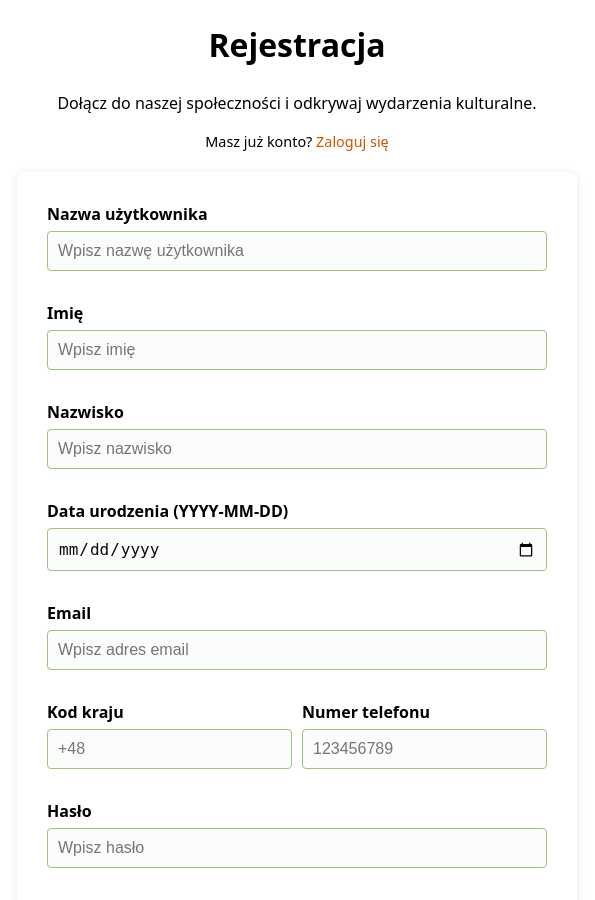
Test: Register Page › displays field-specific errors if tryRegister fails with errors object
Type "testuser" into the field labelled "Nazwa użytkownika" at (297, 252), box [47,232,547,272]
Type "Test" into the field labelled "Imię" at (297, 350), box [47,330,547,370]
Type "User" into the field labelled "Nazwisko" at (297, 450), box [47,430,547,470]
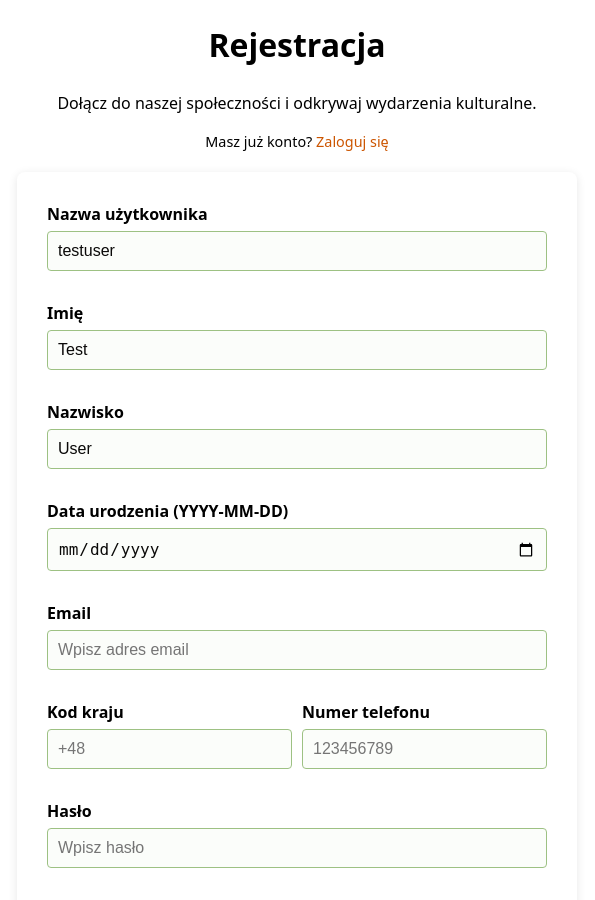
Type "2000-01-01" into the date field labelled "Data urodzenia (YYYY-MM-DD)" at (297, 550), box [47,528,547,572]
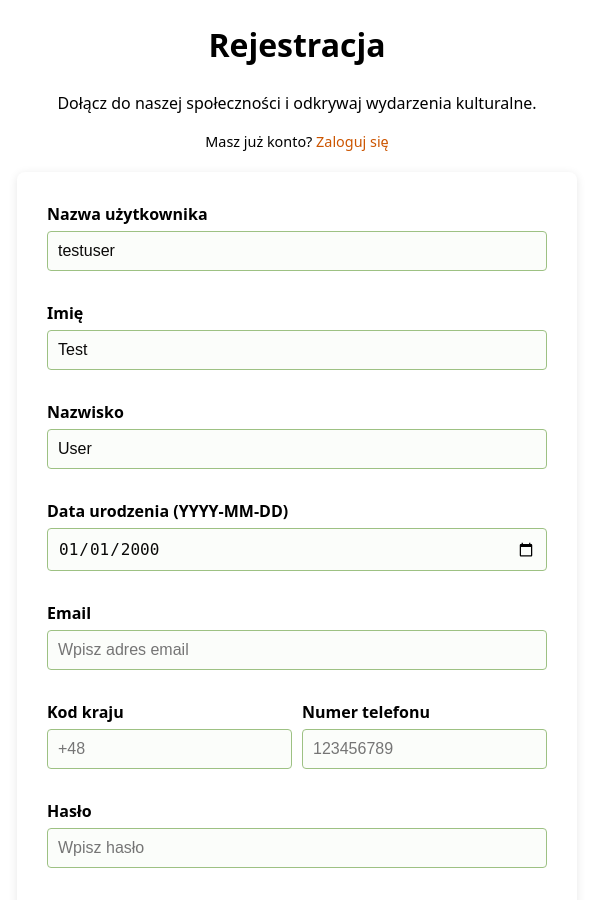
Type "test@example.com" into the field labelled "Email" at (297, 650), box [47,630,547,670]
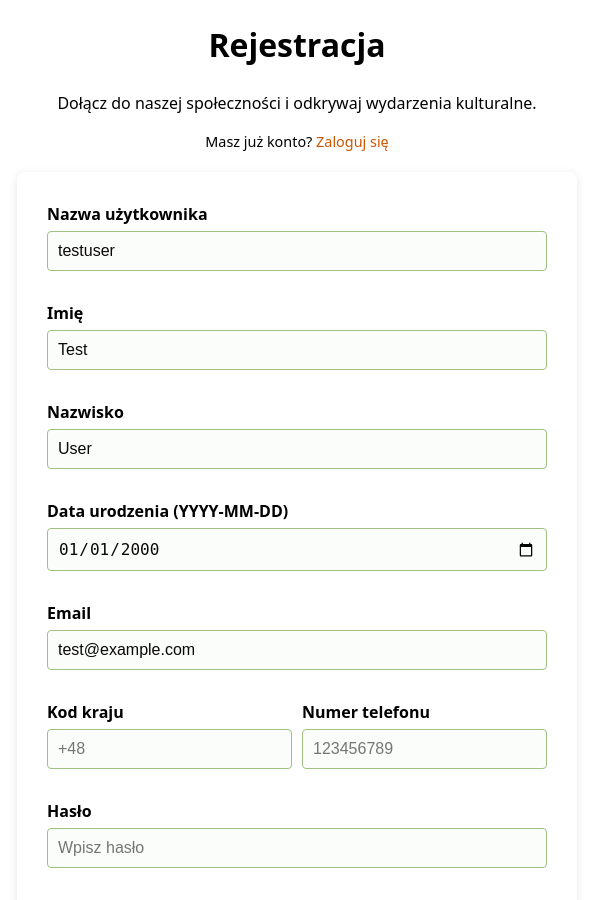
Type "Password123!" into the password field labelled "Hasło" at (297, 848), box [47,828,547,868]
(page scrolled)
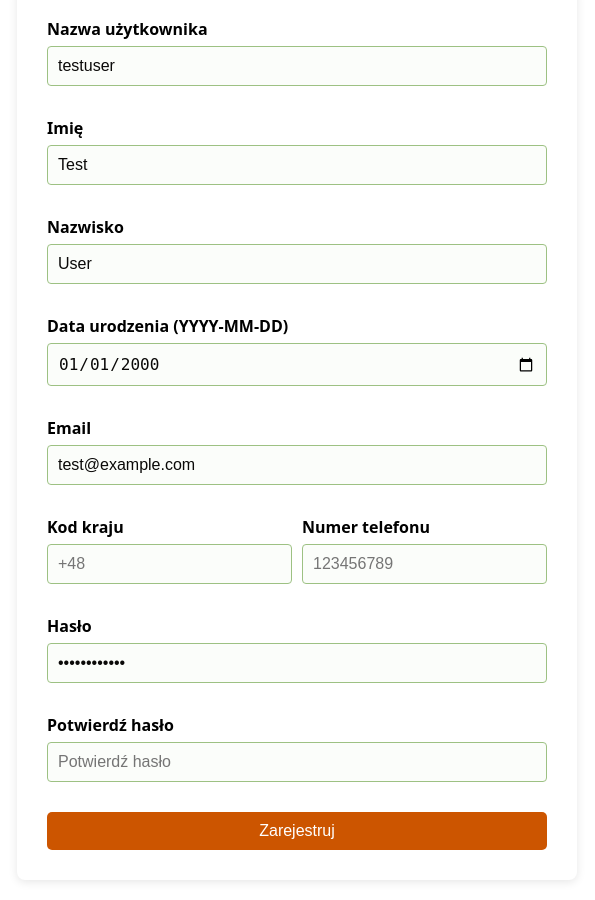
Type "Password123!" into the password field labelled "Potwierdź hasło" at (297, 762), box [47,742,547,782]
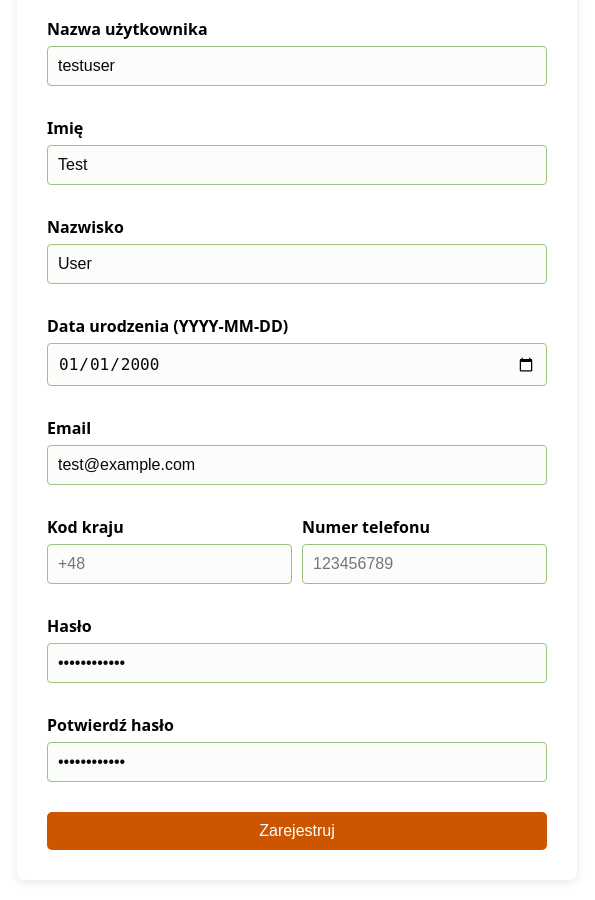
Click the button "Zarejestruj" at (297, 832), box [47,812,547,850]
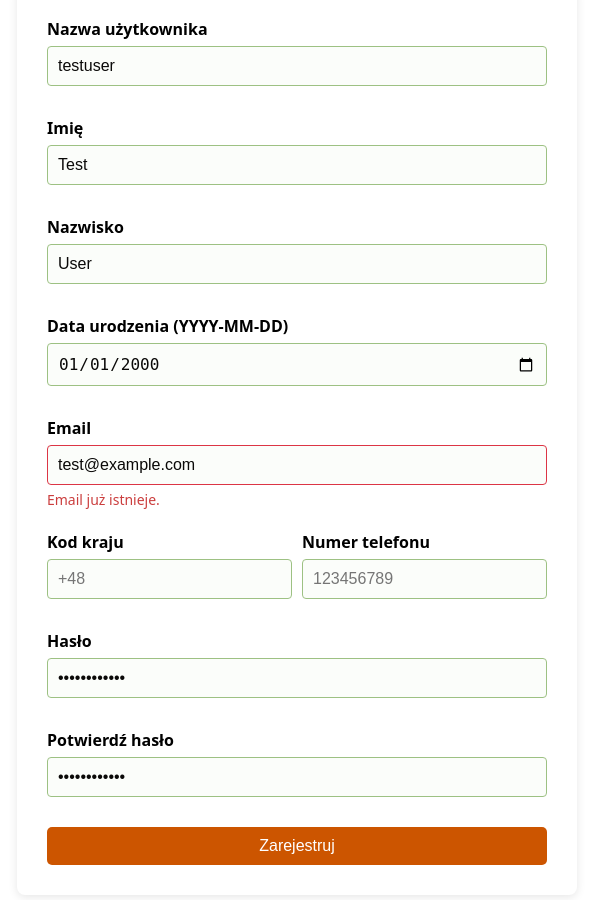
Check: the text "Email już istnieje." is shown, box [47,490,160,510]
